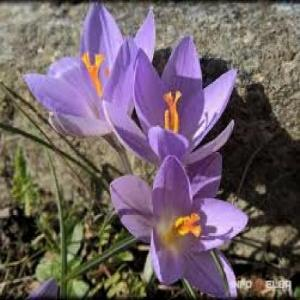Saffron: (23, 0, 156, 135), (101, 38, 237, 168), (108, 172, 244, 292)
